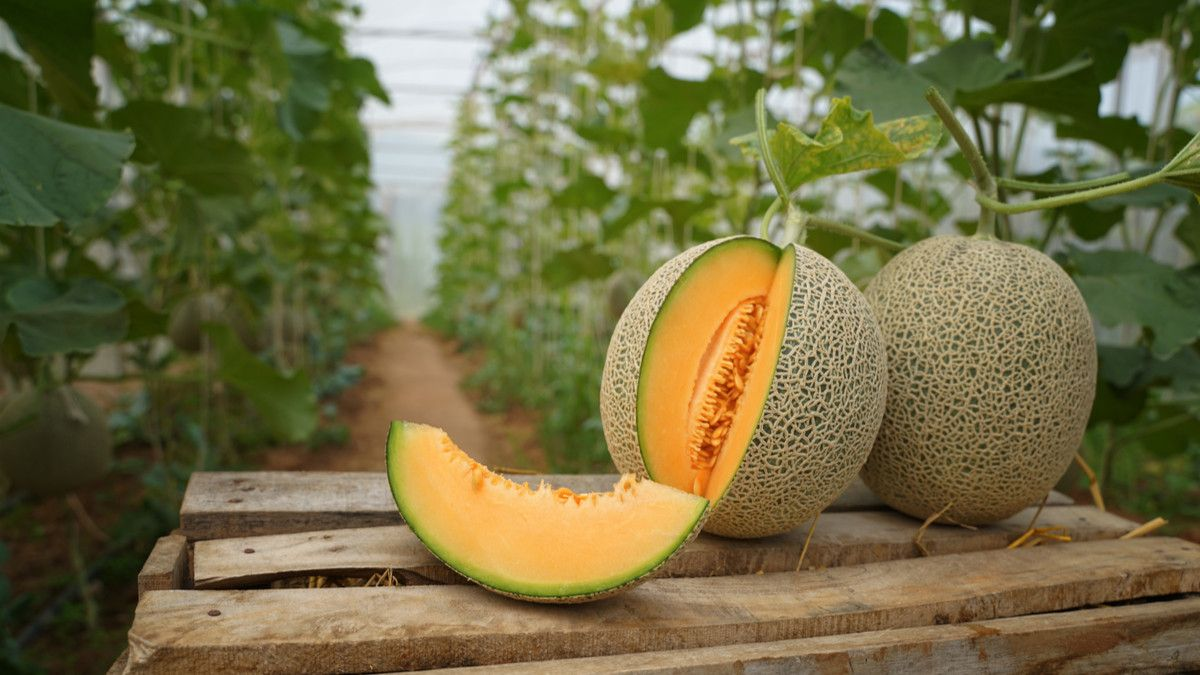Melon: (300, 442, 718, 653)
